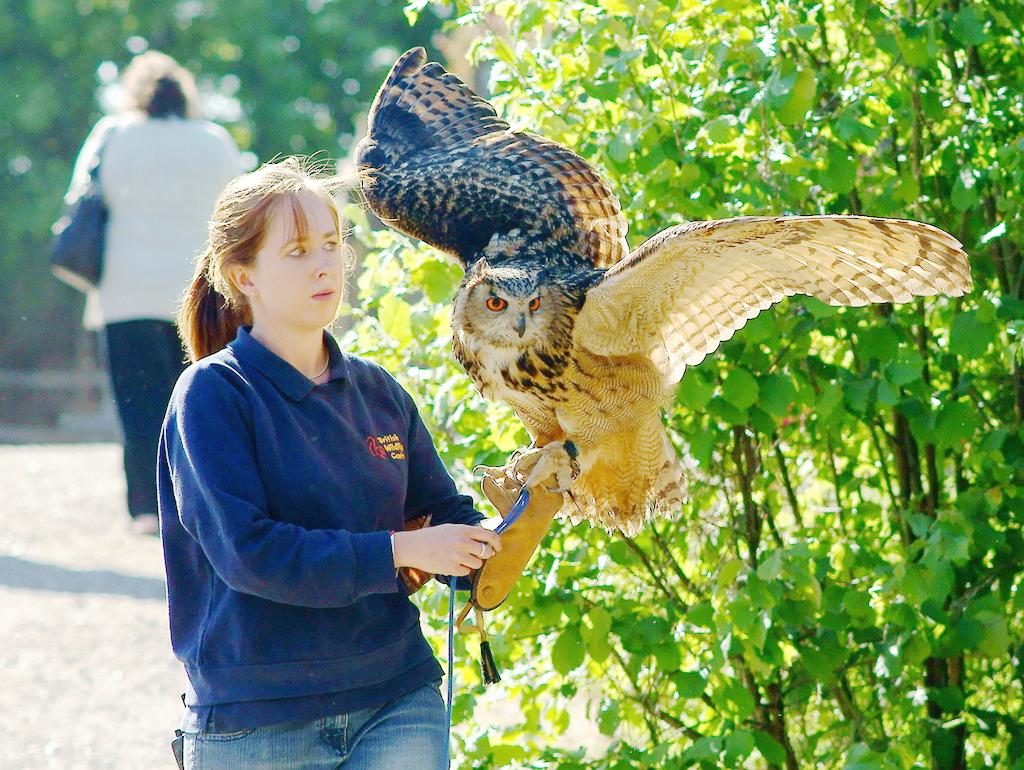Owl: (356, 40, 980, 550)
